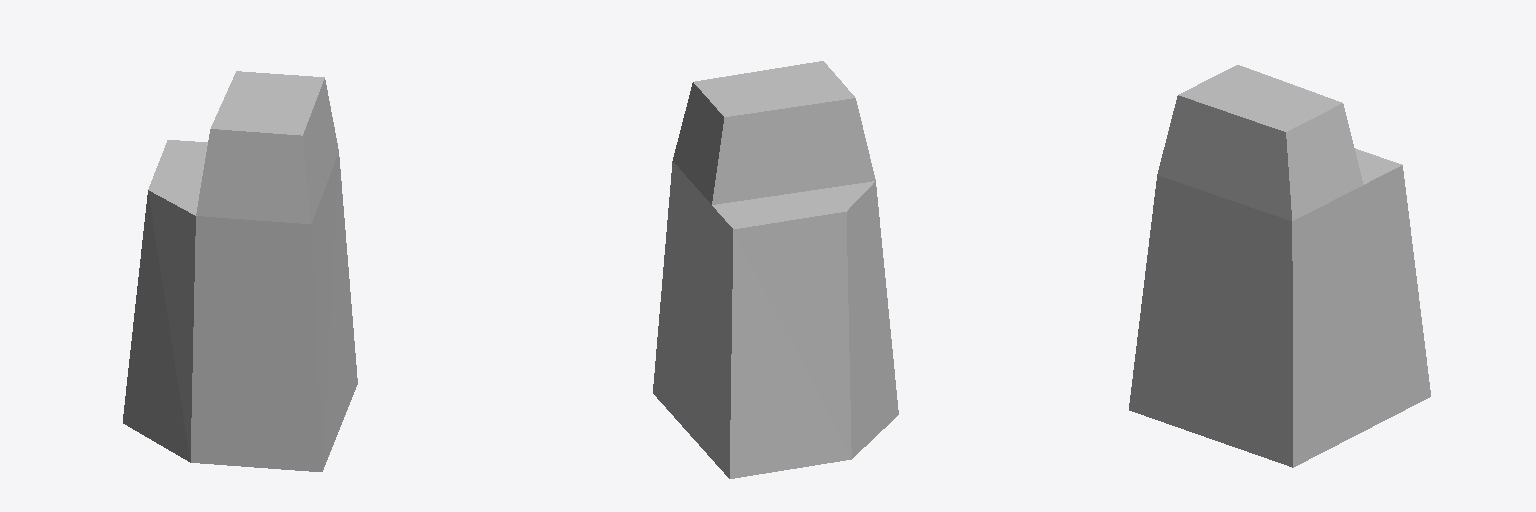
The model's file is rock2.obj.
3 renders of one model, left to right at view 1: azimuth 30°, elevation 25°; view 2: azimuth 150°, elevation 25°; view 3: azimuth 270°, elevation 25°, orthographic.
Size of the model in its own units: 0.3813 by 0.5328 by 0.46.